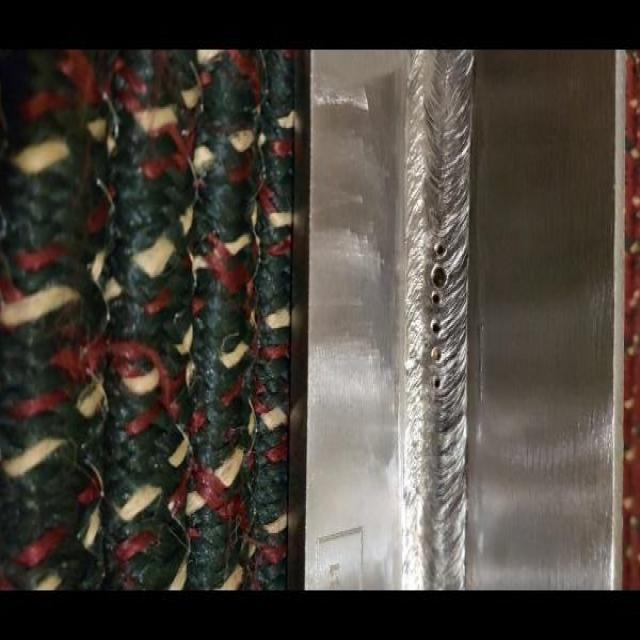Welding Line: (402, 52, 465, 594)
Workpiece: (297, 54, 621, 592)
porosity: (430, 241, 448, 386)
